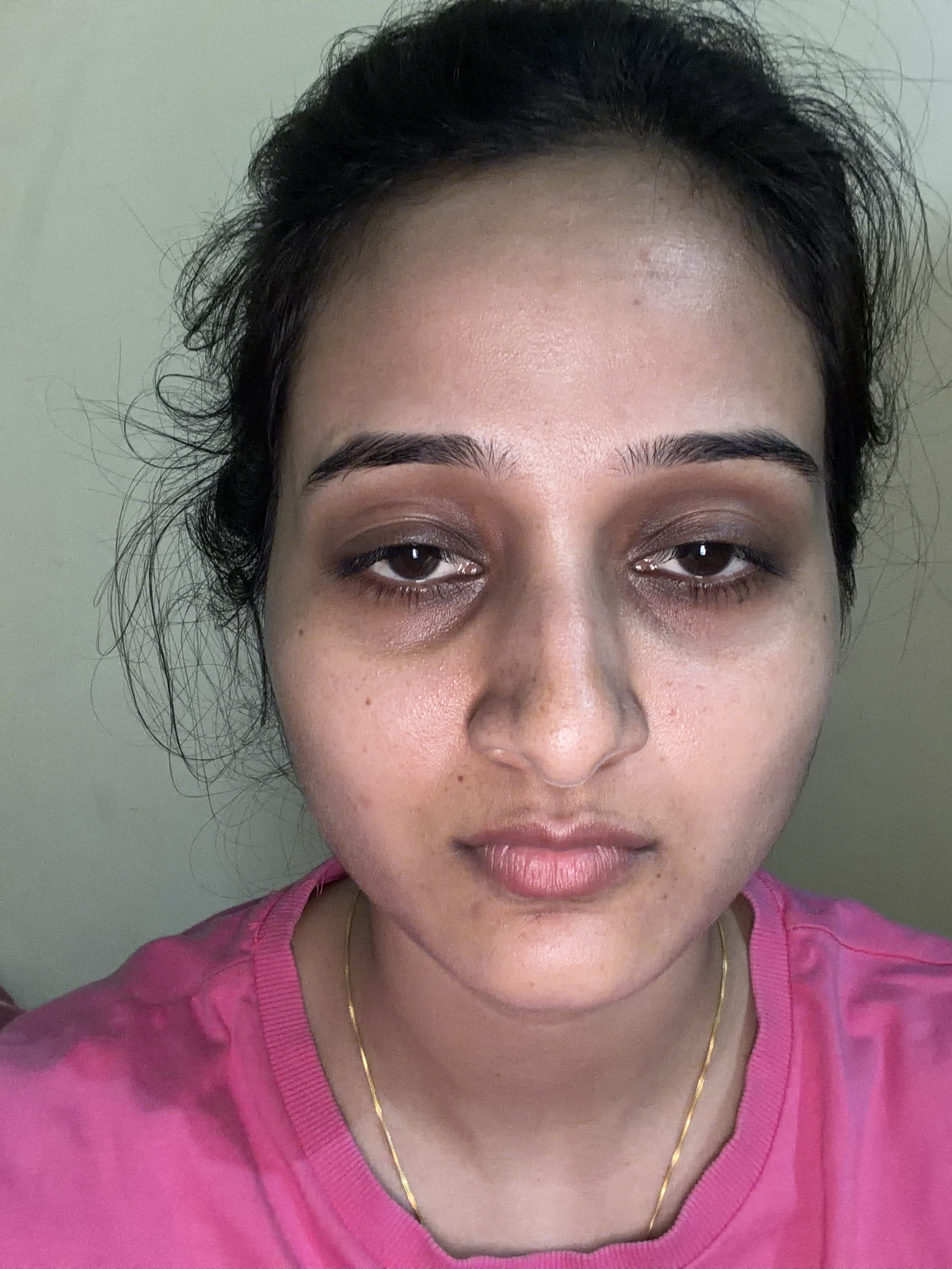papule: (639, 248, 661, 268)
